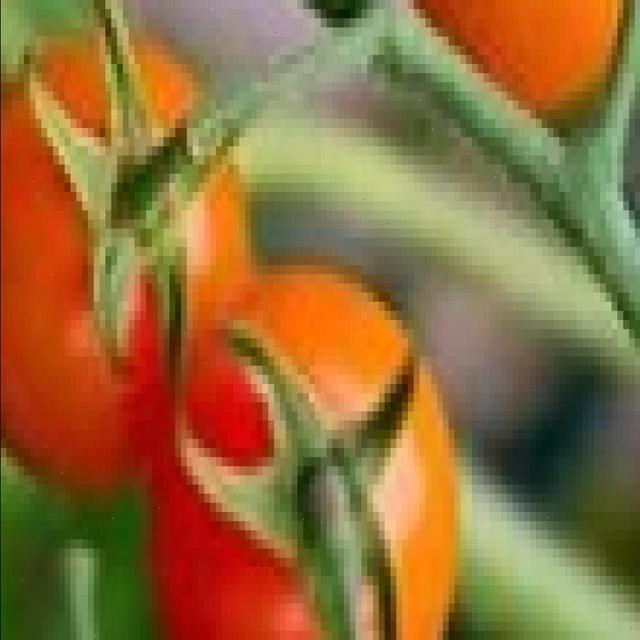Healthy Fruit: (84, 180, 211, 305)
